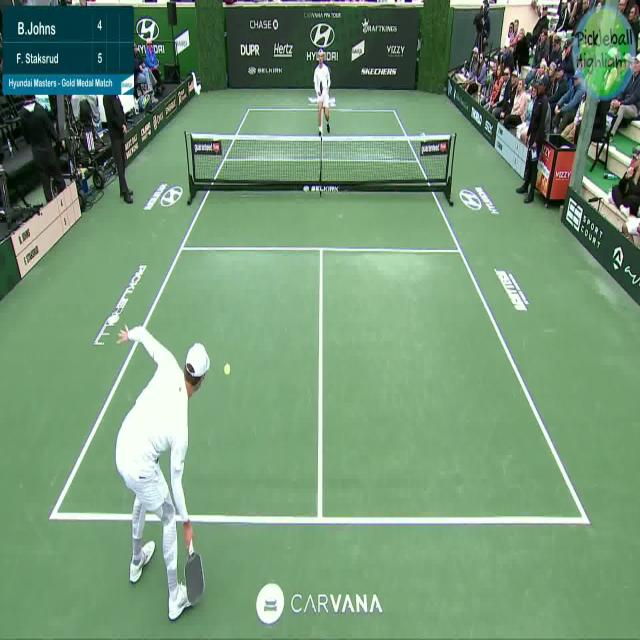Court: (53, 109, 588, 519)
ball: (222, 359, 234, 379)
